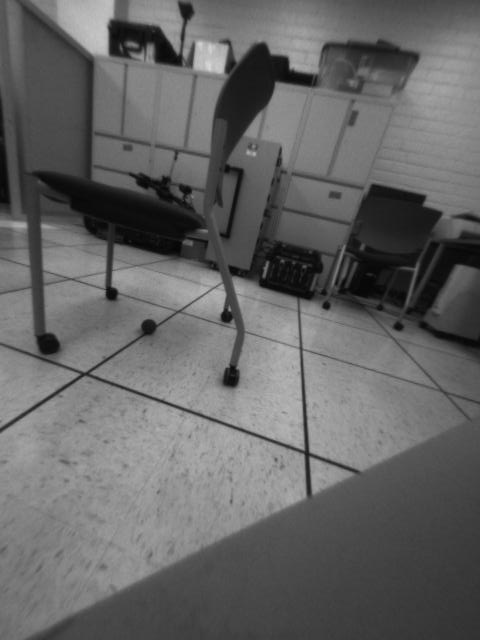dogtoy: (134, 313, 163, 343)
